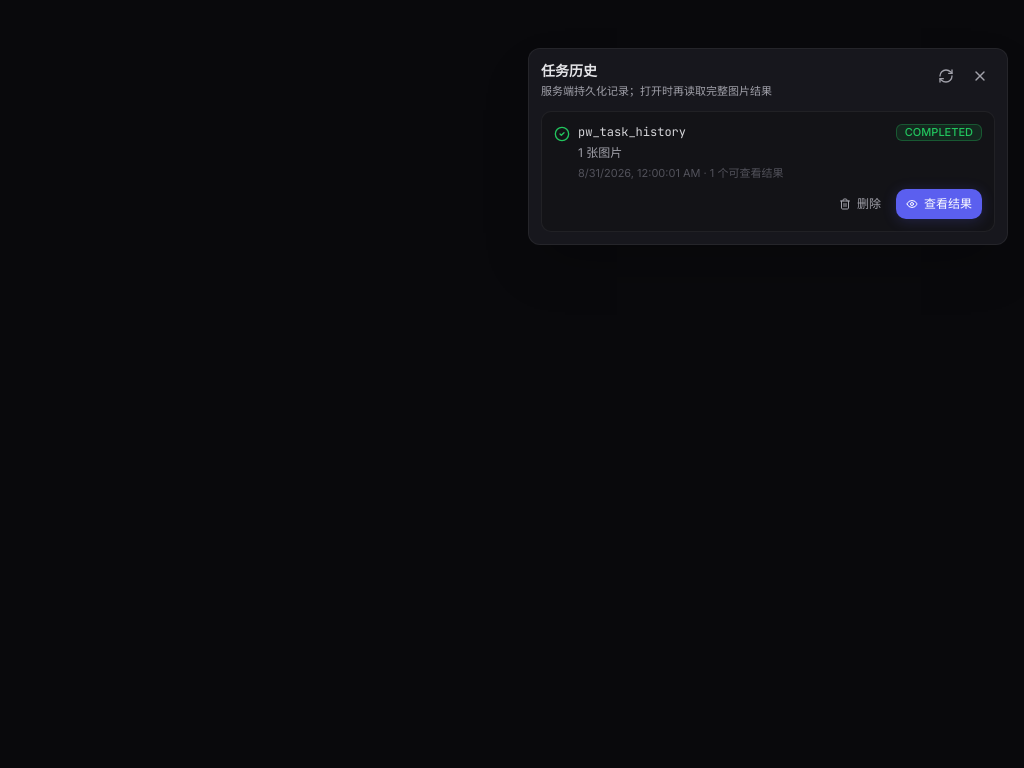
Test case: RecentJobsPopover › deletes a terminal task after confirmation
Click the button with aria-label "删除任务 pw_task_history" at (860, 204), box top-left (828, 189), bottom-right (892, 219)
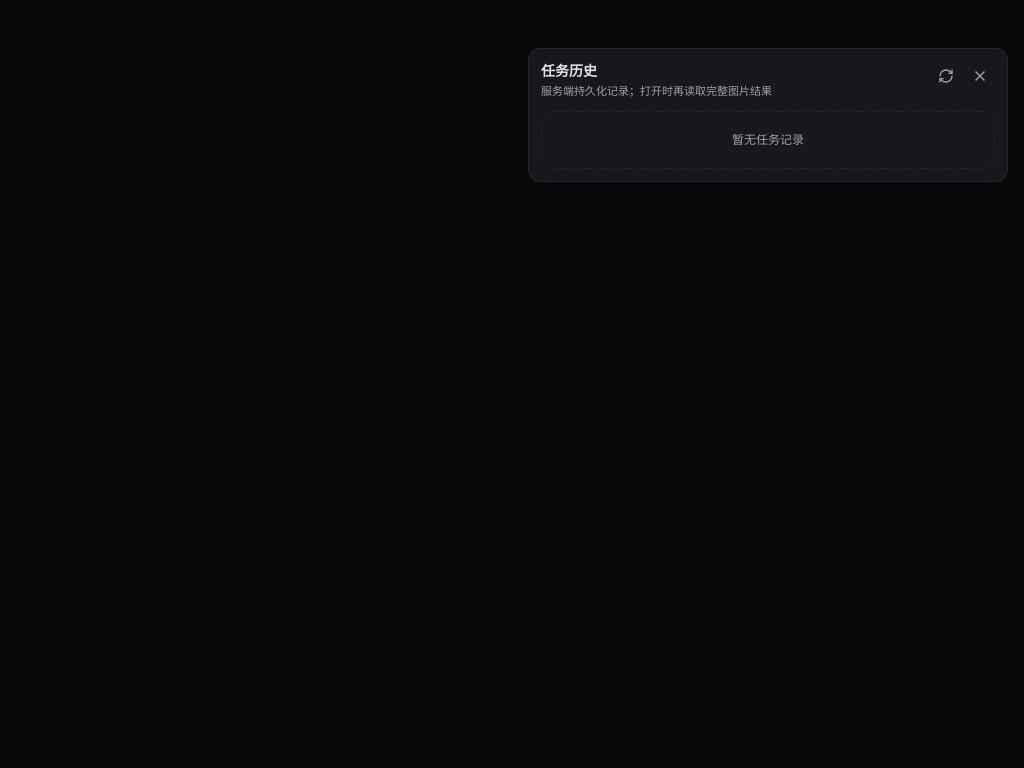
Expected: the text "pw_task_history" is gone
